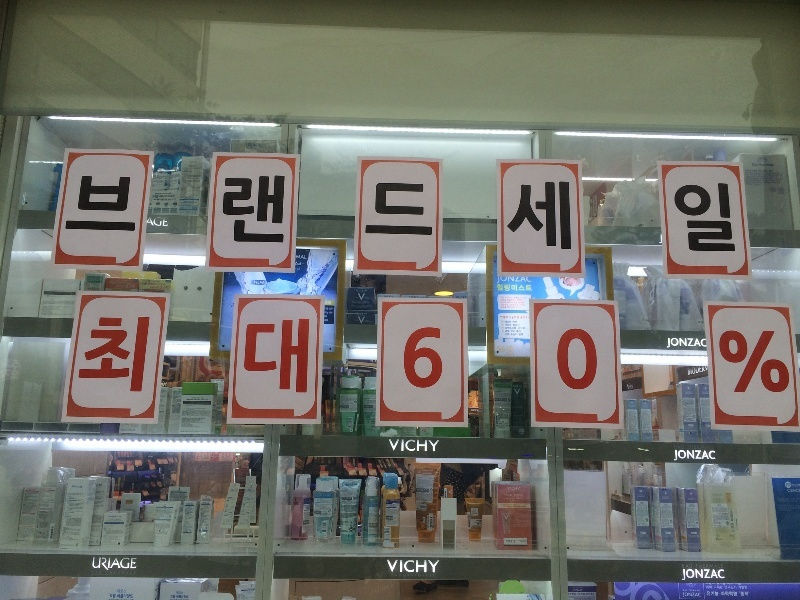text: (257, 317, 272, 398), (273, 317, 288, 398), (289, 317, 304, 398), (97, 315, 112, 396), (113, 315, 128, 396), (129, 315, 144, 396), (721, 326, 736, 397), (737, 326, 752, 397), (753, 326, 768, 397), (769, 326, 784, 397), (529, 180, 544, 251), (545, 180, 560, 251), (673, 182, 688, 252), (689, 182, 704, 252), (705, 182, 720, 252), (721, 182, 736, 252), (225, 174, 240, 244), (241, 174, 256, 244), (257, 174, 272, 244), (321, 472, 336, 539), (337, 472, 352, 539), (353, 472, 368, 539), (369, 472, 384, 539), (385, 472, 400, 539), (401, 472, 416, 539), (417, 472, 432, 539), (561, 327, 576, 391), (577, 327, 592, 391), (417, 326, 432, 390), (33, 484, 48, 547), (49, 484, 64, 547), (65, 484, 80, 547), (81, 484, 96, 547), (273, 174, 286, 244), (402, 326, 416, 390), (81, 174, 96, 233), (97, 174, 112, 233), (113, 174, 128, 233), (97, 484, 111, 547), (385, 183, 400, 238), (401, 183, 416, 238), (417, 183, 432, 238), (246, 317, 256, 398), (308, 472, 320, 539), (517, 180, 528, 251), (561, 180, 572, 251), (433, 326, 443, 390), (193, 501, 208, 543), (113, 508, 128, 548), (785, 326, 793, 397), (145, 315, 152, 396), (24, 484, 32, 547), (129, 174, 137, 233), (183, 165, 192, 217), (376, 183, 384, 238), (193, 165, 201, 217), (245, 488, 256, 525), (305, 317, 310, 398), (161, 507, 176, 534), (230, 488, 240, 526), (177, 491, 188, 523), (184, 501, 192, 543), (433, 472, 438, 539), (555, 327, 560, 391), (593, 327, 598, 391), (129, 508, 137, 548), (161, 171, 176, 192), (105, 508, 112, 548), (401, 559, 416, 574), (417, 559, 432, 574), (97, 557, 112, 572), (113, 557, 128, 572), (169, 491, 176, 523), (717, 326, 720, 397), (386, 559, 400, 574), (401, 439, 416, 453), (417, 439, 432, 453), (513, 320, 525, 337), (689, 569, 704, 582), (705, 569, 720, 582), (513, 296, 527, 309), (689, 450, 704, 462), (673, 337, 688, 349), (689, 337, 704, 349), (388, 439, 400, 453), (689, 365, 704, 376), (154, 507, 160, 534), (161, 205, 177, 215), (675, 450, 688, 462), (500, 296, 512, 309), (153, 171, 160, 192), (504, 320, 512, 337), (705, 450, 716, 462), (149, 216, 160, 228), (497, 284, 512, 292), (513, 284, 528, 292), (497, 276, 512, 284), (513, 276, 528, 284), (129, 557, 137, 572), (148, 205, 160, 215), (433, 439, 441, 453), (514, 388, 528, 396), (433, 183, 435, 238), (433, 559, 440, 574), (689, 444, 704, 451), (177, 171, 182, 192), (161, 216, 169, 228), (689, 592, 702, 599), (358, 316, 368, 325), (209, 501, 211, 543), (358, 294, 368, 302), (707, 591, 720, 597), (739, 591, 752, 597), (705, 564, 720, 569), (721, 592, 736, 597), (161, 194, 176, 199), (145, 282, 160, 287), (97, 571, 112, 576), (113, 571, 128, 576), (674, 445, 688, 450), (705, 444, 715, 451), (671, 182, 672, 252), (683, 569, 688, 582), (787, 488, 800, 493), (401, 574, 416, 578), (417, 574, 432, 578), (738, 586, 752, 590), (325, 301, 336, 306), (117, 594, 128, 599), (117, 589, 128, 594), (721, 569, 725, 582), (246, 143, 256, 148), (177, 595, 189, 599), (689, 589, 701, 593), (668, 337, 672, 349), (356, 312, 368, 316), (513, 316, 529, 319), (296, 254, 304, 260), (353, 301, 368, 304), (93, 557, 96, 572), (725, 586, 736, 590), (325, 319, 336, 323), (325, 311, 336, 315), (325, 307, 336, 311), (706, 586, 720, 589), (514, 494, 528, 497), (786, 484, 800, 487), (696, 564, 704, 569), (152, 194, 160, 199), (150, 286, 160, 290), (356, 290, 368, 293), (513, 384, 522, 388), (295, 262, 304, 266), (683, 592, 688, 599), (129, 571, 136, 576), (501, 316, 512, 319), (257, 281, 265, 285), (529, 284, 533, 292), (161, 286, 169, 290), (513, 487, 521, 491), (504, 516, 512, 520), (456, 296, 464, 300), (161, 282, 167, 287), (177, 591, 184, 595), (577, 589, 584, 593), (505, 494, 512, 498), (385, 296, 394, 299), (683, 564, 688, 569), (257, 143, 262, 148), (129, 594, 134, 599), (91, 571, 96, 576), (170, 595, 176, 599), (714, 586, 720, 590), (705, 337, 707, 349), (324, 316, 336, 318), (529, 276, 532, 284), (409, 296, 416, 299), (395, 574, 400, 578), (683, 589, 688, 593), (689, 564, 693, 569), (721, 564, 725, 569), (506, 540, 512, 543), (508, 487, 512, 491), (141, 282, 144, 287), (109, 594, 112, 599), (113, 594, 116, 599), (513, 540, 517, 543), (573, 589, 576, 593), (305, 254, 307, 260), (687, 365, 688, 376), (705, 365, 706, 376), (369, 301, 372, 304), (509, 316, 512, 319), (433, 574, 435, 578), (721, 586, 723, 590), (254, 281, 256, 285), (465, 296, 467, 300), (687, 444, 688, 451), (417, 296, 419, 299)
